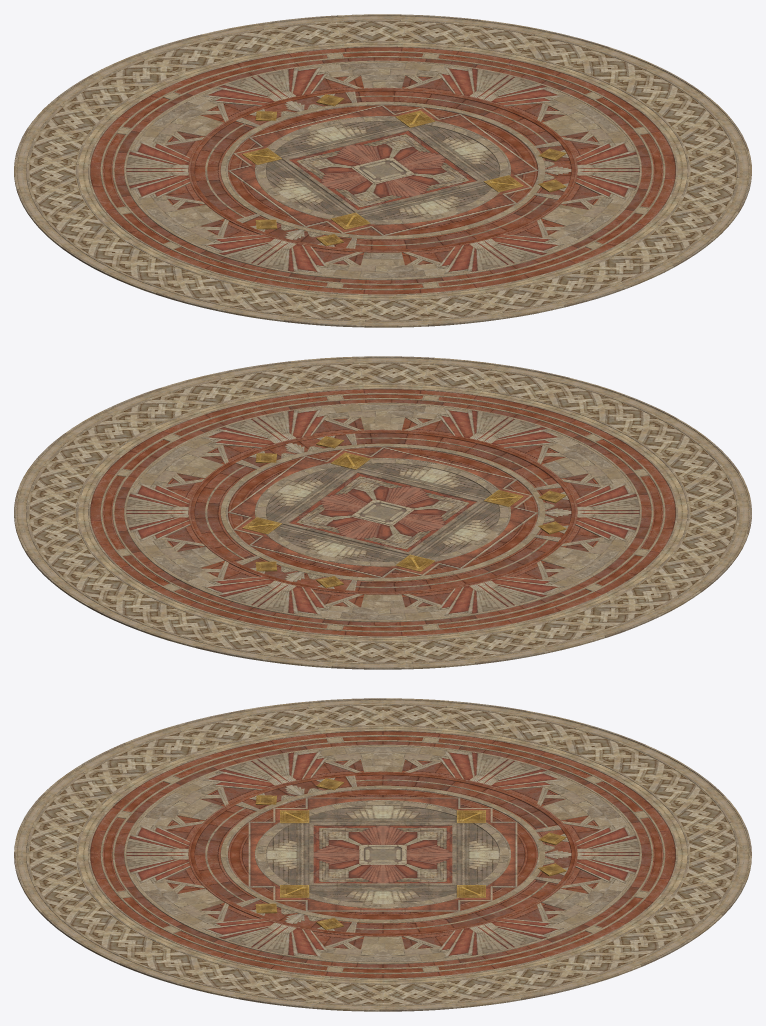
The picture shows the model from 3 angles, top to bottom: view 1: azimuth 30°, elevation 25°; view 2: azimuth 150°, elevation 25°; view 3: azimuth 270°, elevation 25°; orthographic projection.
Visible parts, largest first — view 1: n5r3-gim_01, n5r3-gim_01.028, n5r3-gim_01.029, n5r3-gim_01.027, n5r3-gim_01.030, n5r3-gim_01.032, n5r3-gim_01.031; view 2: n5r3-gim_01, n5r3-gim_01.028, n5r3-gim_01.029, n5r3-gim_01.027, n5r3-gim_01.030, n5r3-gim_01.032, n5r3-gim_01.031; view 3: n5r3-gim_01, n5r3-gim_01.028, n5r3-gim_01.029, n5r3-gim_01.027, n5r3-gim_01.030, n5r3-gim_01.032, n5r3-gim_01.031.
Part boxes in pixels (x1,y1,x2,y2): n5r3-gim_01: [16, 16, 749, 325]; n5r3-gim_01.028: [90, 47, 675, 294]; n5r3-gim_01.029: [14, 14, 751, 327]; n5r3-gim_01.027: [228, 105, 537, 235]; n5r3-gim_01.030: [126, 66, 639, 273]; n5r3-gim_01.032: [118, 53, 648, 287]; n5r3-gim_01.031: [242, 94, 566, 245]; n5r3-gim_01: [16, 358, 749, 667]; n5r3-gim_01.028: [90, 389, 675, 636]; n5r3-gim_01.029: [14, 356, 751, 669]; n5r3-gim_01.027: [228, 447, 537, 577]; n5r3-gim_01.030: [126, 408, 639, 615]; n5r3-gim_01.032: [117, 395, 647, 629]; n5r3-gim_01.031: [242, 436, 566, 587]; n5r3-gim_01: [16, 700, 749, 1009]; n5r3-gim_01.028: [90, 731, 675, 978]; n5r3-gim_01.029: [14, 698, 751, 1011]; n5r3-gim_01.027: [248, 797, 517, 911]; n5r3-gim_01.030: [126, 750, 639, 957]; n5r3-gim_01.032: [117, 737, 648, 971]; n5r3-gim_01.031: [255, 778, 566, 929].
Bounding box in the file's own units: 50.09 × 0.2392 × 50.09.
Materials: 7 (7 with a texture image).
